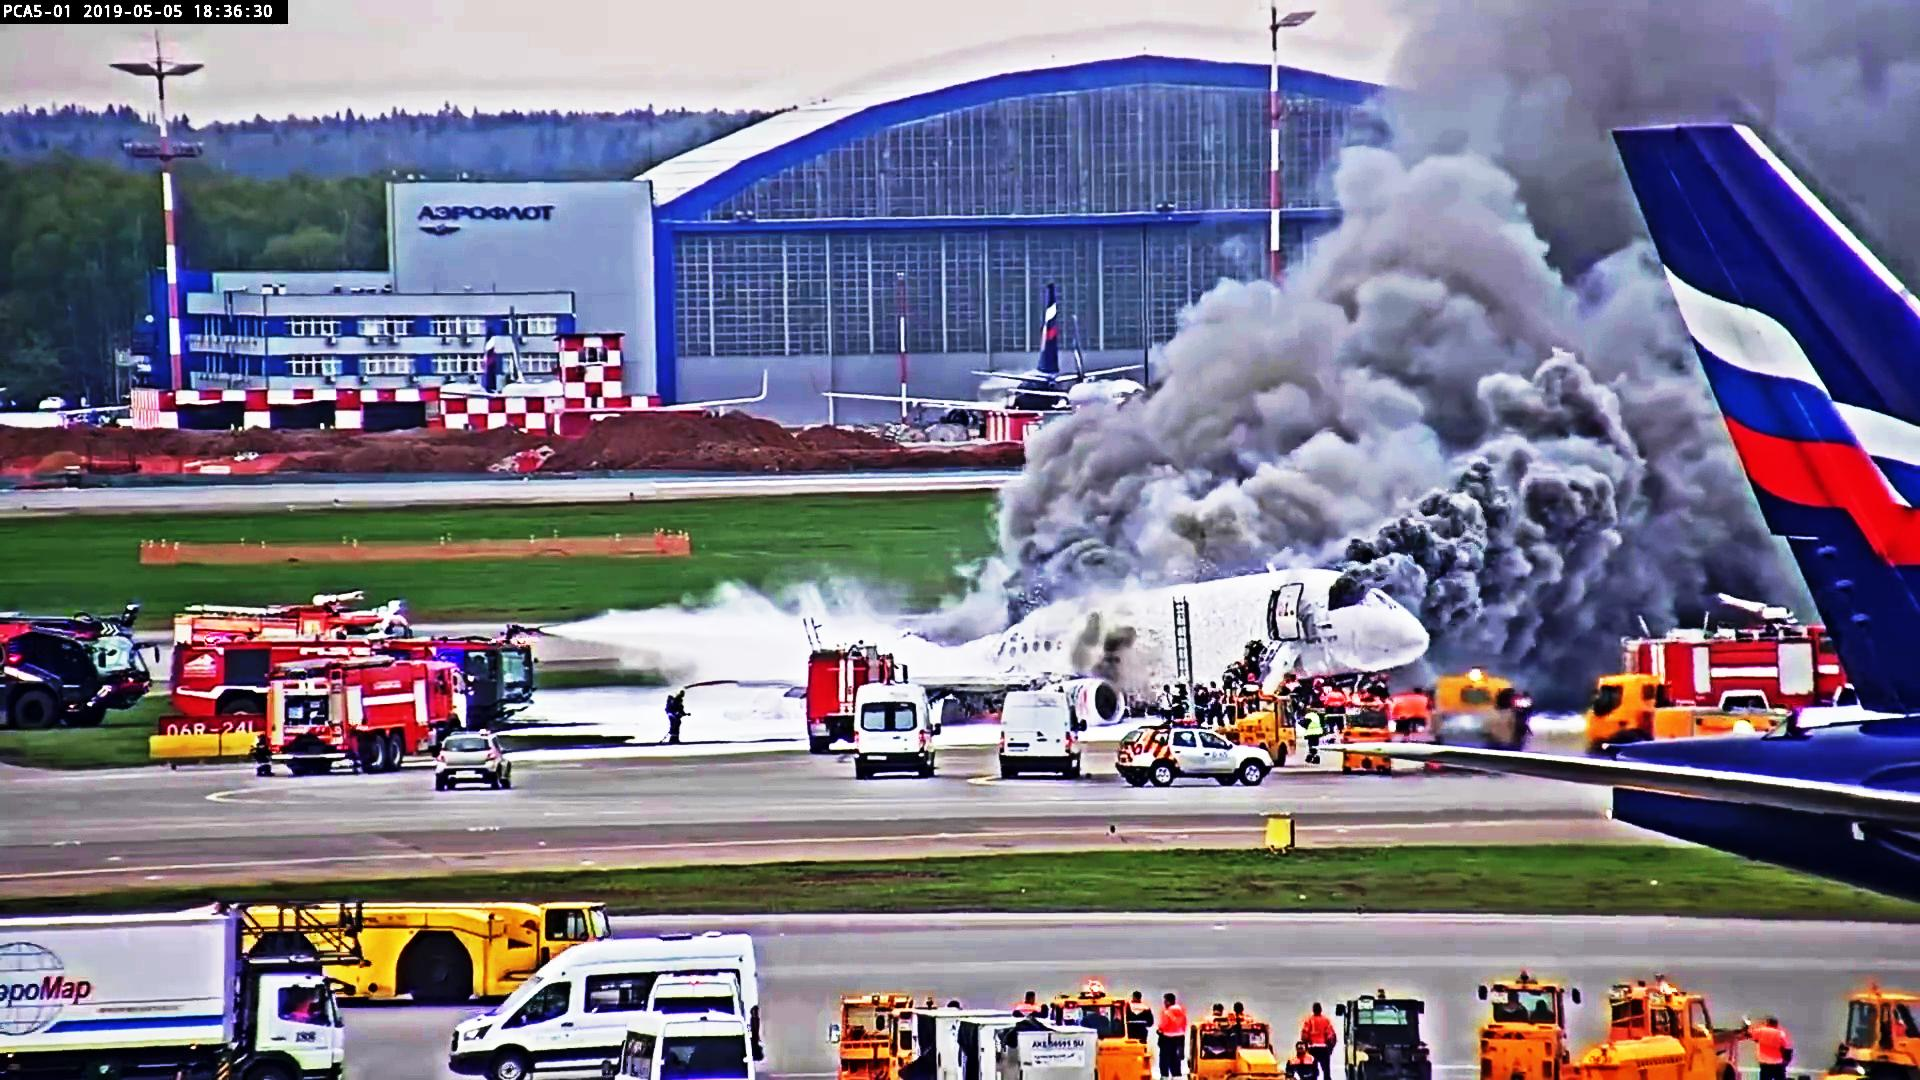smoke: (1340, 0, 1609, 468), (1063, 375, 1482, 613), (1378, 373, 1643, 600)
